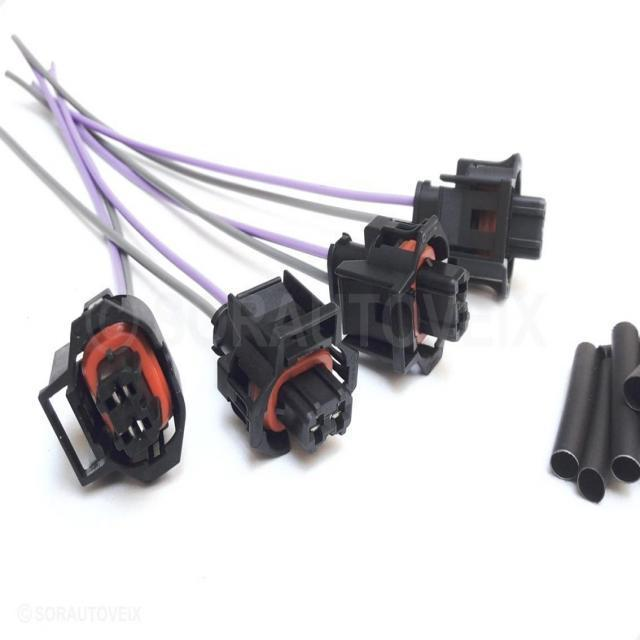connector: (39, 295, 185, 484), (212, 271, 357, 456), (329, 217, 468, 373), (412, 154, 545, 298)
